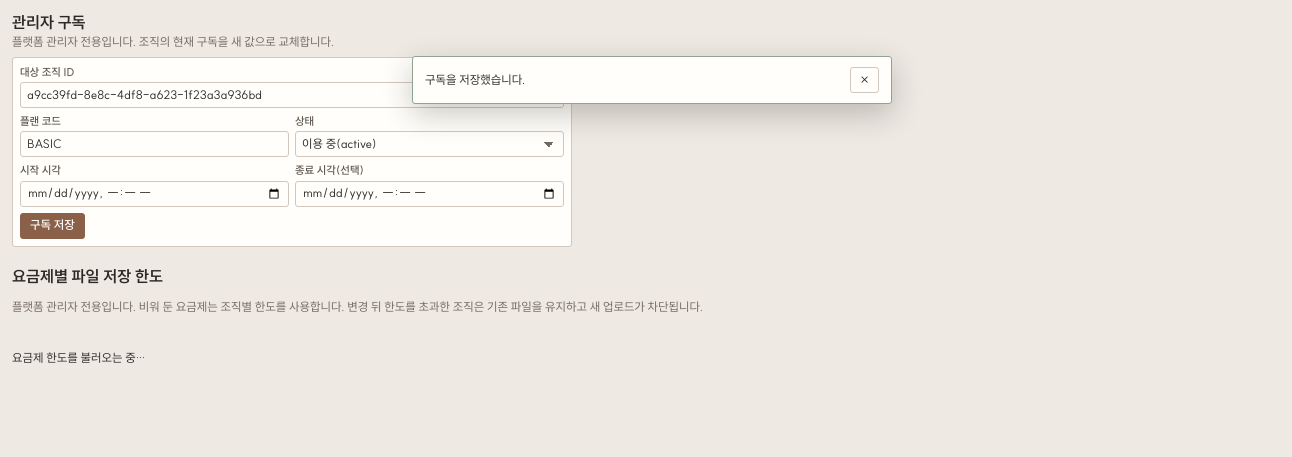
AdminSubscriptionPage › 잘못된 조직 ID 은 서버로 보내지 않는다
Step 1. Type "2026-09-16T09:00" into the field labelled "시작 시각" → (154, 194), box [20,181,289,207]
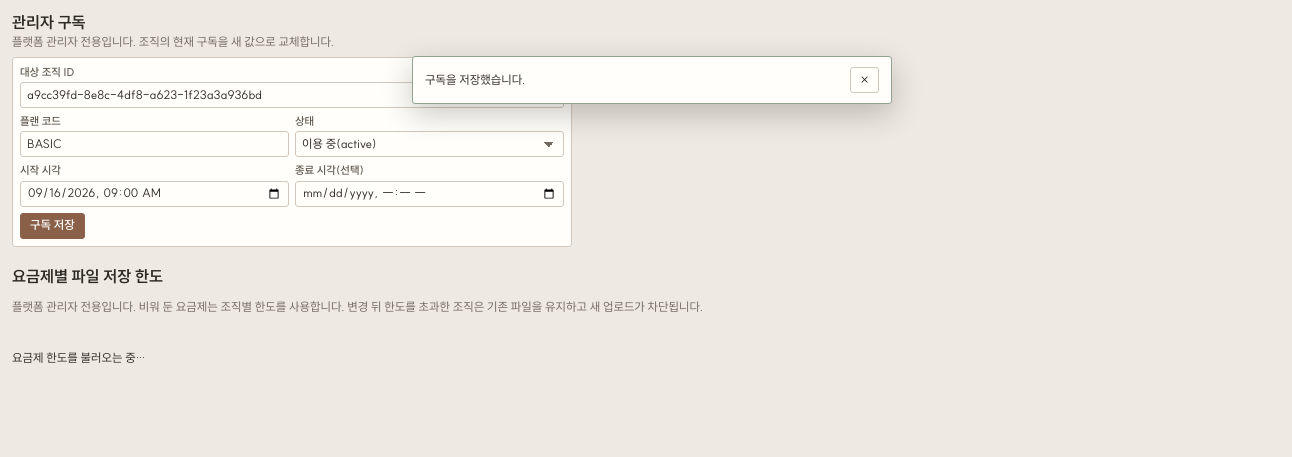
Step 2. Replace the text in the field labelled "대상 조직 ID" with "abc" → (292, 95), box [20,82,564,108]
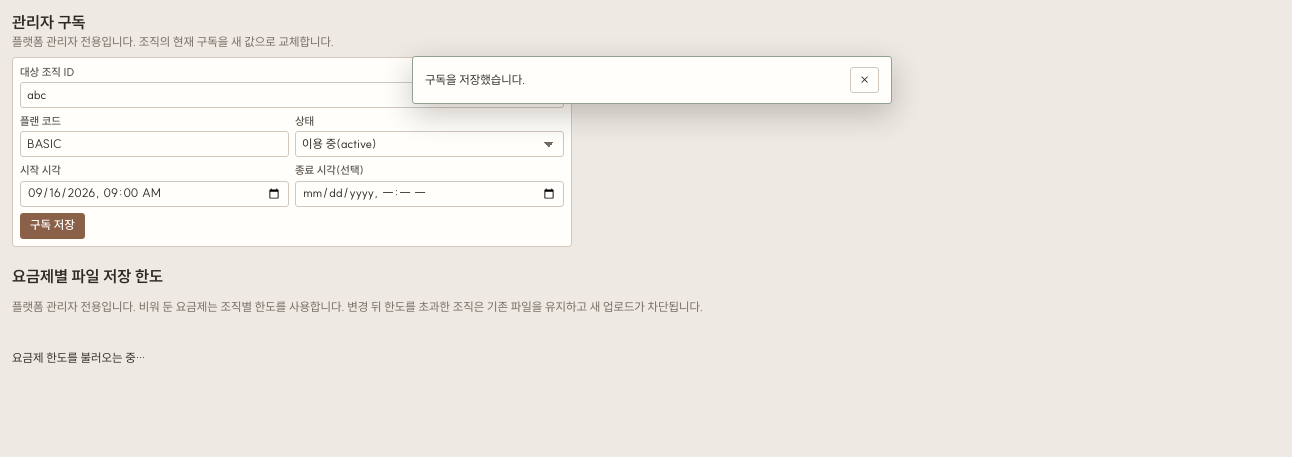
Step 3. Click the button "구독 저장" → (52, 226), box [20,213,85,239]
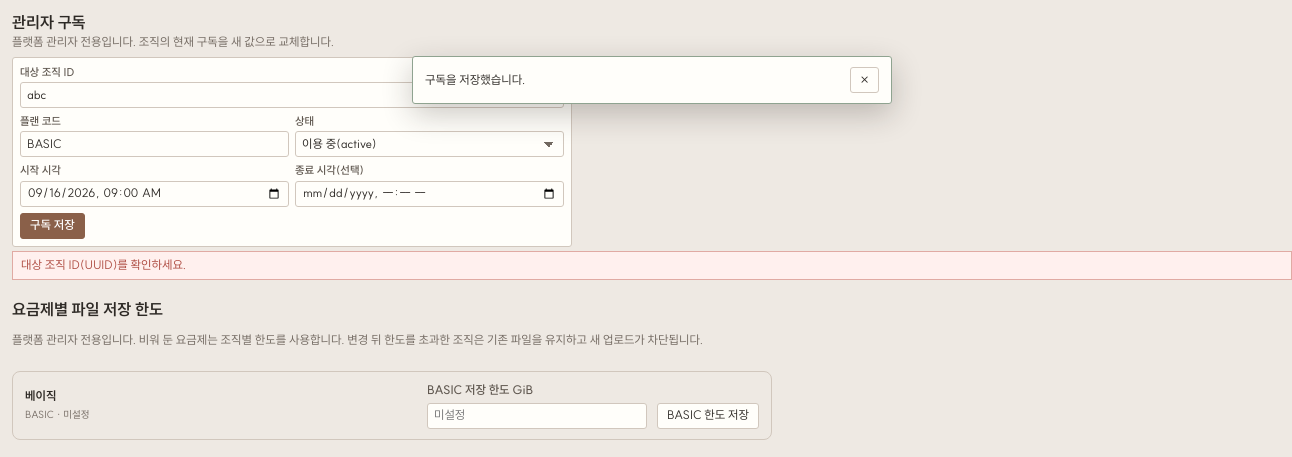
Now the text "대상 조직 ID(UUID)를 확인하세요." is shown, box [12,251,1291,280]
